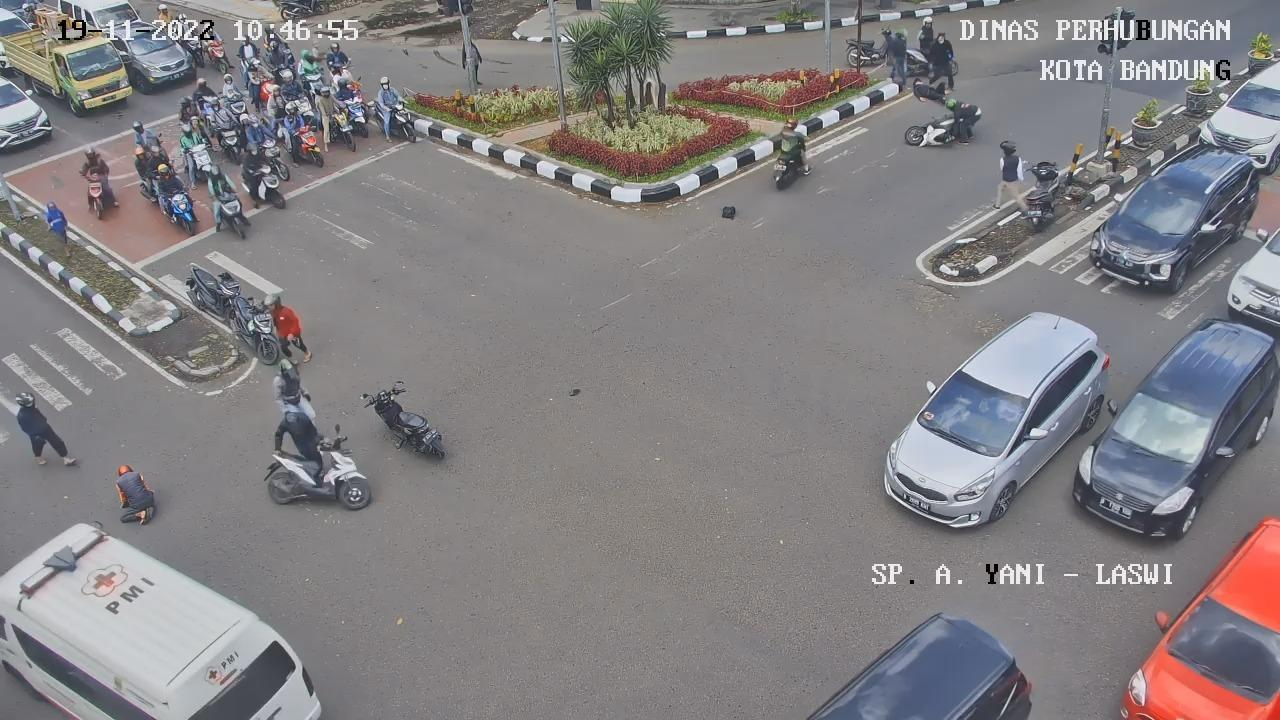accident: (103, 453, 163, 530)
